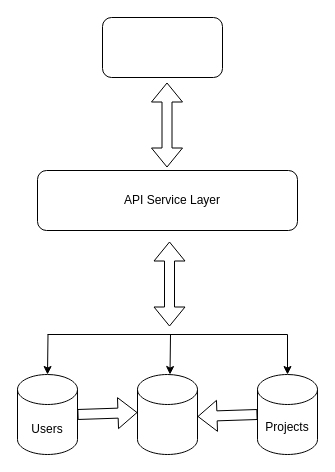
Image size: 335x472. Some labels were removed from this diagram. Each missing label, with the centre of its shape:
Client: pixel 162 47
User Project Mapping: pixel 167 414
